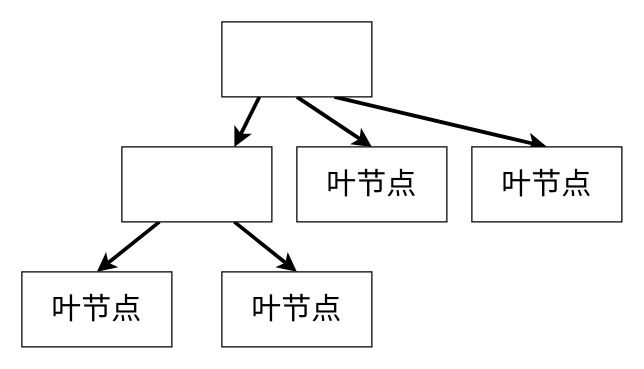
Some shapes in this 644 by 369 pixel diagram are drawn without their labels. The box of each missing label's shape, as (x1, y1, x2, y2) in pixels:
根节点: (221, 21, 372, 97)
节点: (121, 146, 272, 222)
